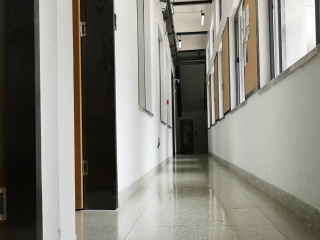room: (70, 1, 123, 217), (3, 2, 48, 234)
